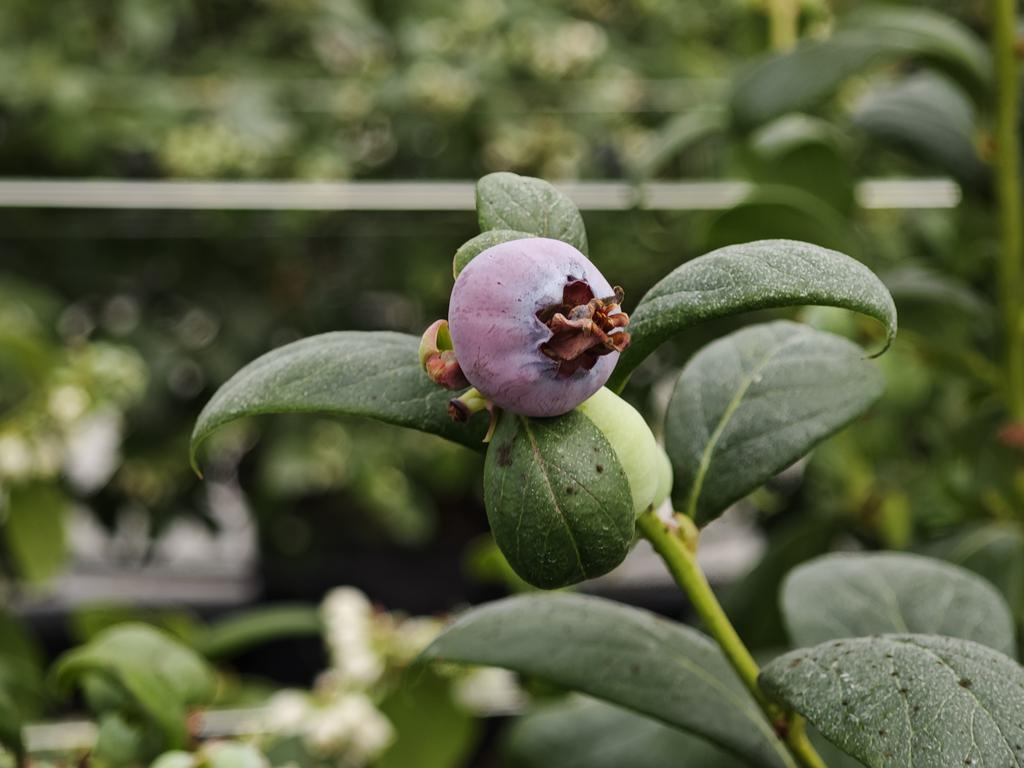Semi-RipeBlueBerry: (447, 234, 632, 419)
